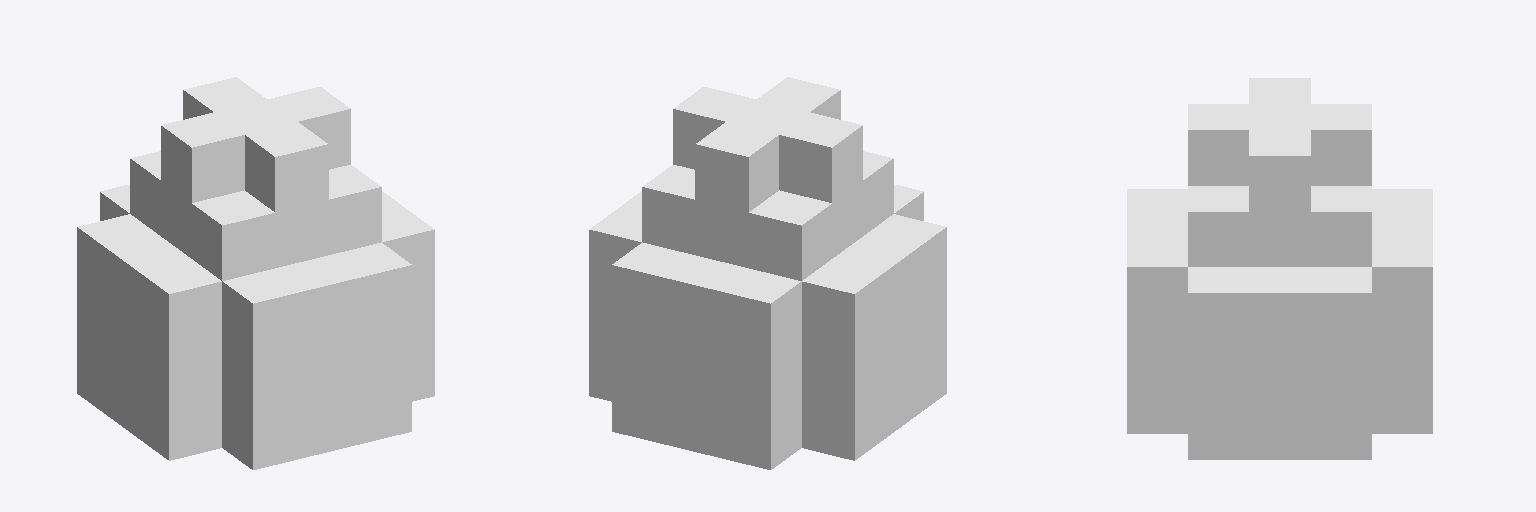
Rendered from Diamant.obj.
The picture shows the model from 3 angles: view 1: azimuth 30°, elevation 25°; view 2: azimuth 150°, elevation 25°; view 3: azimuth 270°, elevation 25°; orthographic projection.
Parts seen in each view (by area): view 1: object 1; view 2: object 1; view 3: object 1.
Boxes of the visible parts, box(x1,y1,x2,y2) form: object 1: box(77, 77, 434, 469); object 1: box(589, 77, 946, 469); object 1: box(1127, 78, 1432, 459).
Bounding box in the file's own units: 0.5 × 0.5 × 0.5.